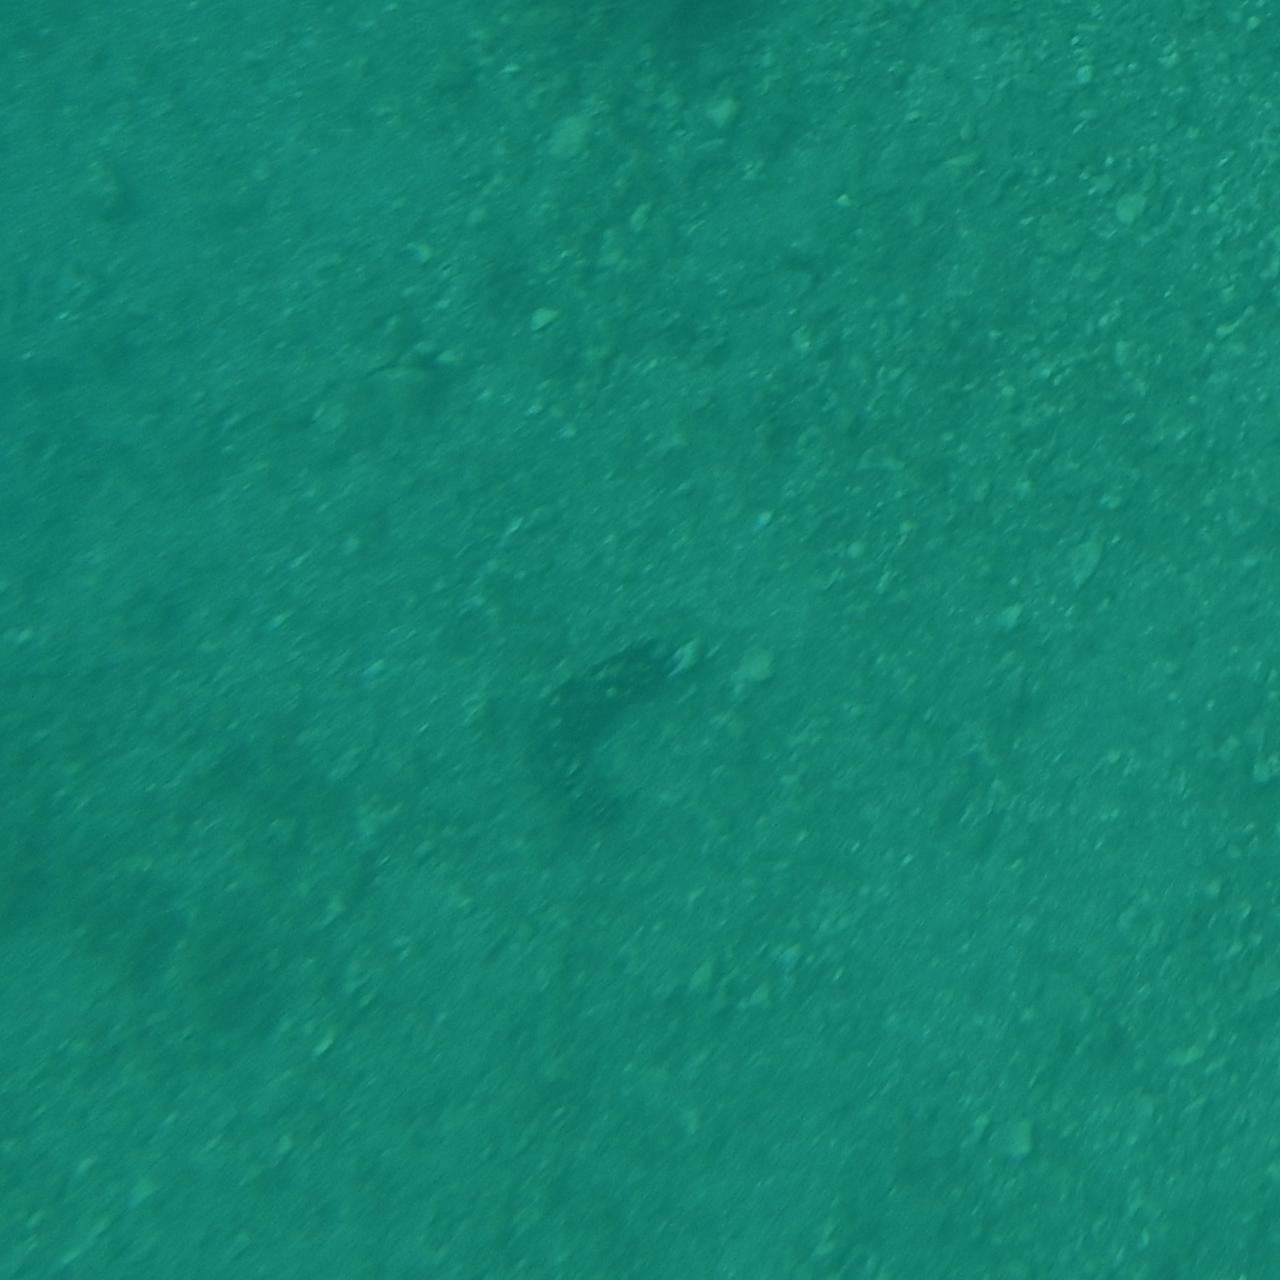Holothuria tubulosa: (546, 612, 734, 835)
